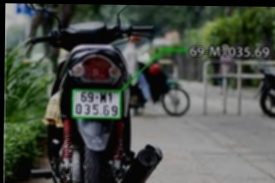Bien-so: (75, 89, 122, 116)
